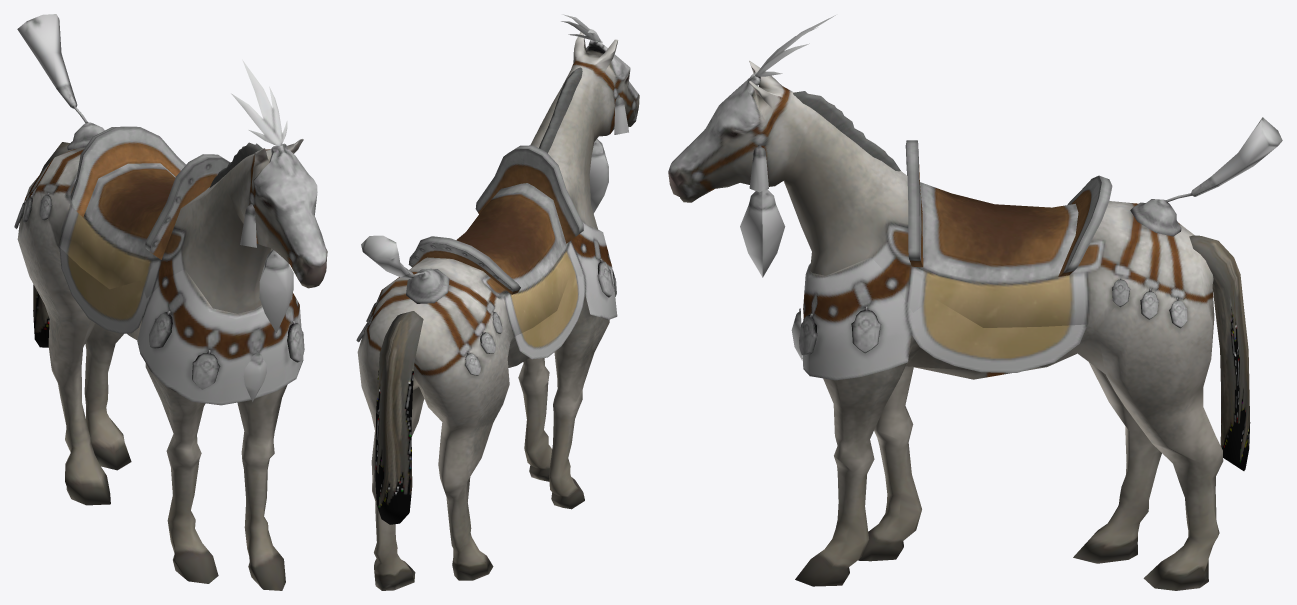
File: body-championcavalry.glb
3 views of the same model, side by side, from view 1: azimuth 30°, elevation 25°; view 2: azimuth 150°, elevation 25°; view 3: azimuth 270°, elevation 25° (orthographic). The views are drawn at different scales.
Bounding box in the file's own units: 0.8094 × 2.79 × 2.8.
Materials: 1 (1 with a texture image).
